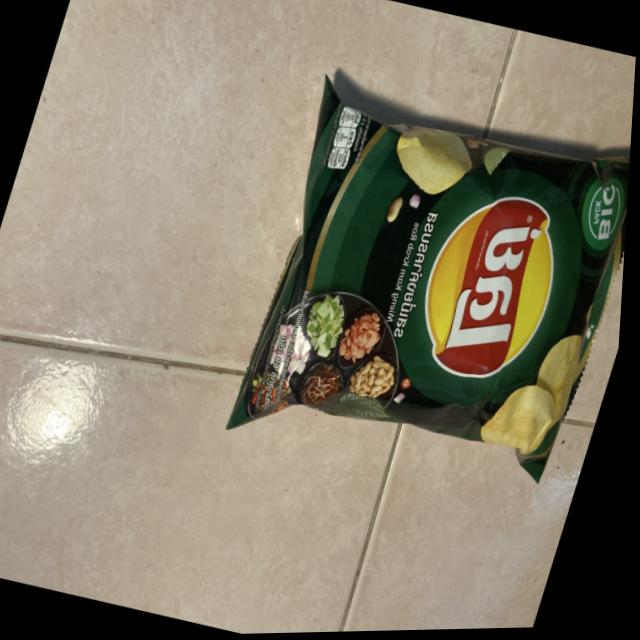Laygreen: (197, 32, 638, 548)
